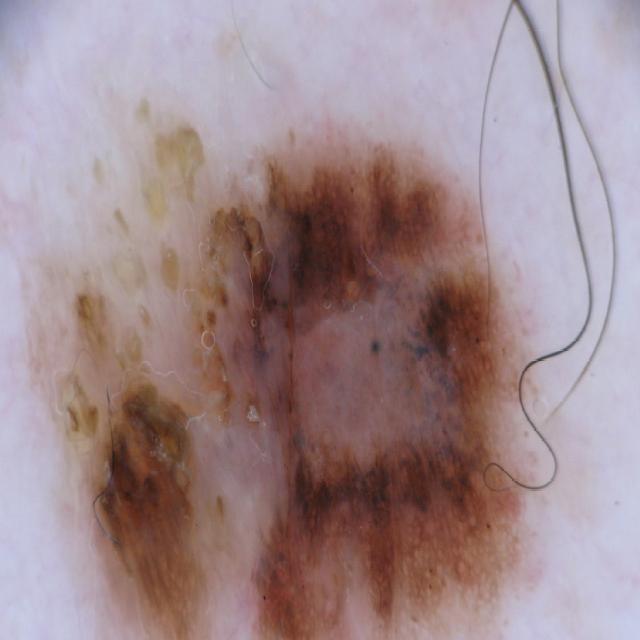Melanoma: (37, 96, 505, 640)
